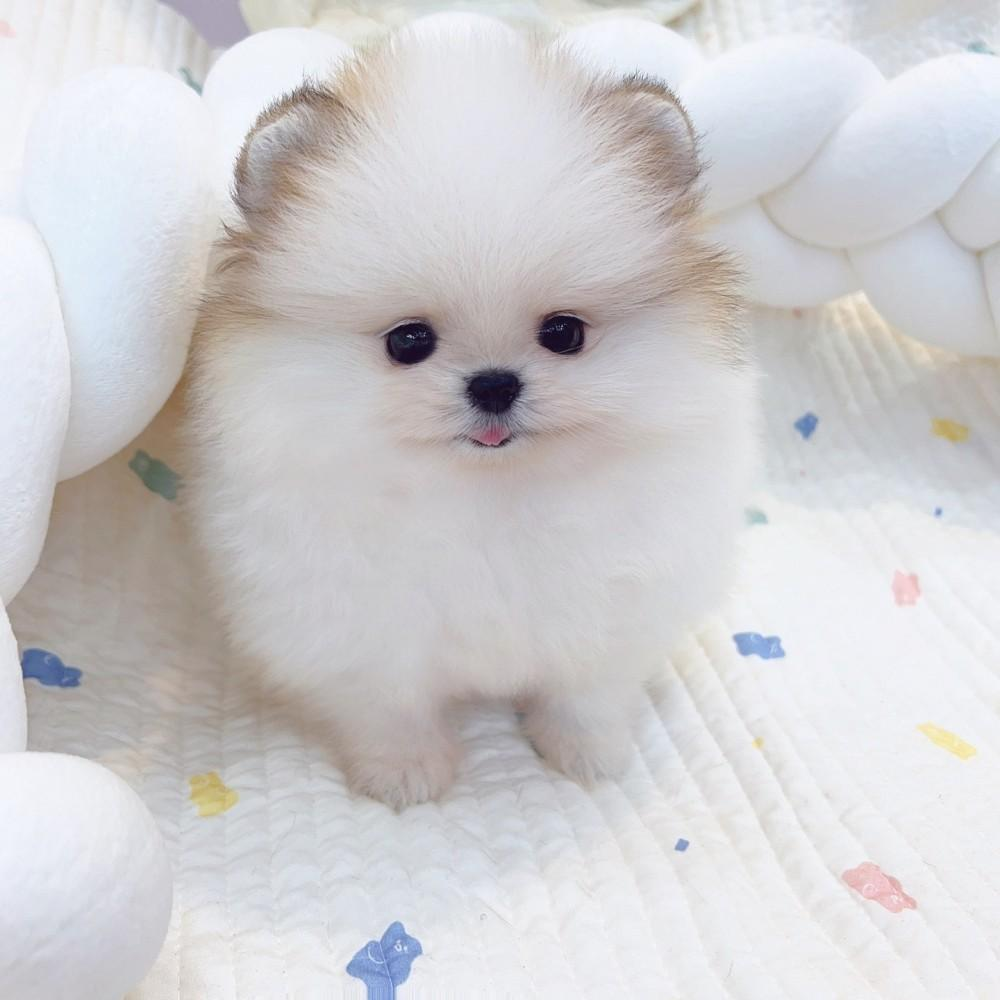dog: (200, 70, 764, 796)
